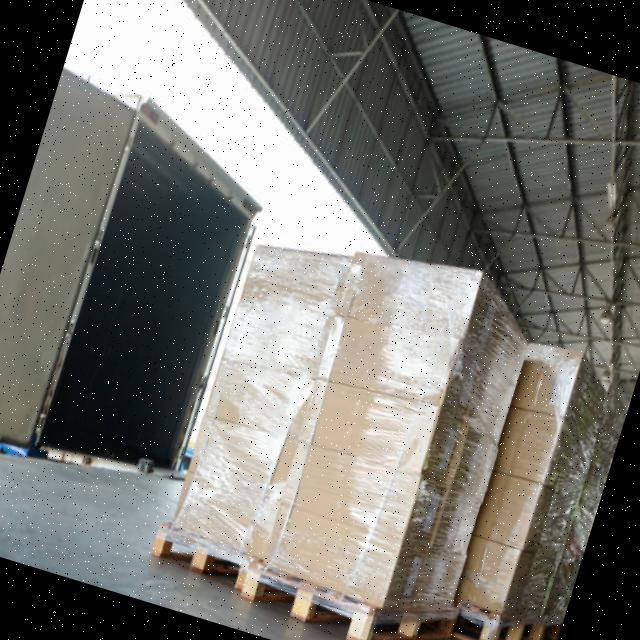Wooden-Pallets: (151, 528, 555, 640), (232, 562, 457, 640), (149, 518, 253, 601), (450, 602, 563, 640)
